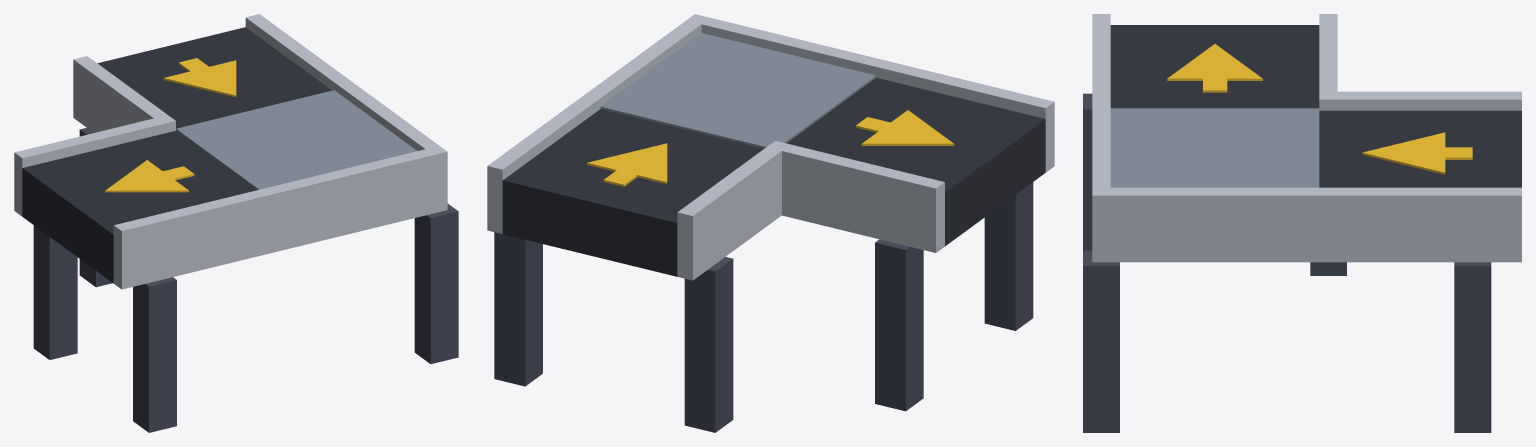
Rendered from conveyor-elbow-right.glb.
3 renders of one model, left to right at view 1: azimuth 30°, elevation 25°; view 2: azimuth 150°, elevation 25°; view 3: azimuth 270°, elevation 25°, orthographic. The views are drawn at different scales.
Visible parts, largest first — view 1: conveyor-elbow-right; view 2: conveyor-elbow-right; view 3: conveyor-elbow-right.
Part boxes in pixels (x1,y1,x2,y2): conveyor-elbow-right: (14, 14, 458, 432); conveyor-elbow-right: (487, 14, 1054, 432); conveyor-elbow-right: (1083, 14, 1521, 432).
Size of the model in its own units: 0.715 by 0.42 by 0.715.
1 material, 1 textured.
